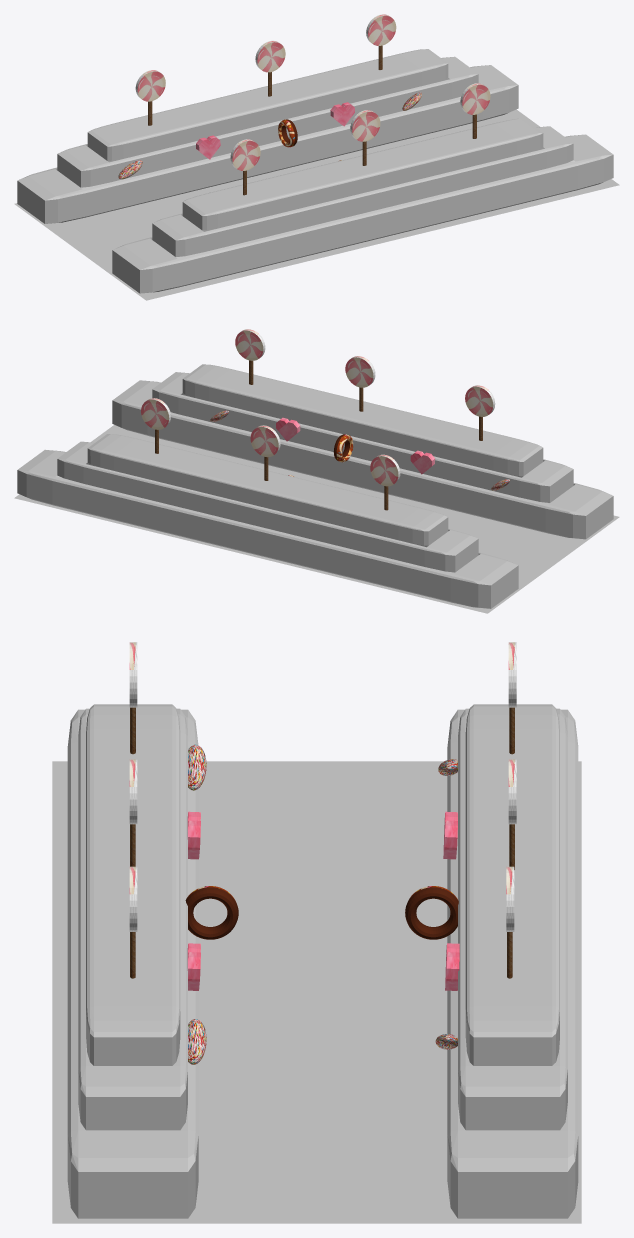
The model's file is Juego_Pelota.obj.
3 views of the same model, one above another, from view 1: azimuth 30°, elevation 25°; view 2: azimuth 150°, elevation 25°; view 3: azimuth 270°, elevation 25° (orthographic). The views are drawn at different scales.
Parts seen in each view (by area): view 1: Piramides_Mesh; view 2: Piramides_Mesh; view 3: Piramides_Mesh.
Boxes of the visible parts, x1=… form: Piramides_Mesh: x1=14, y1=14, x2=619, y2=300; Piramides_Mesh: x1=14, y1=329, x2=619, y2=613; Piramides_Mesh: x1=52, y1=642, x2=581, y2=1223.
Bounding box in the file's own units: 10 × 2.35 × 4.84.
